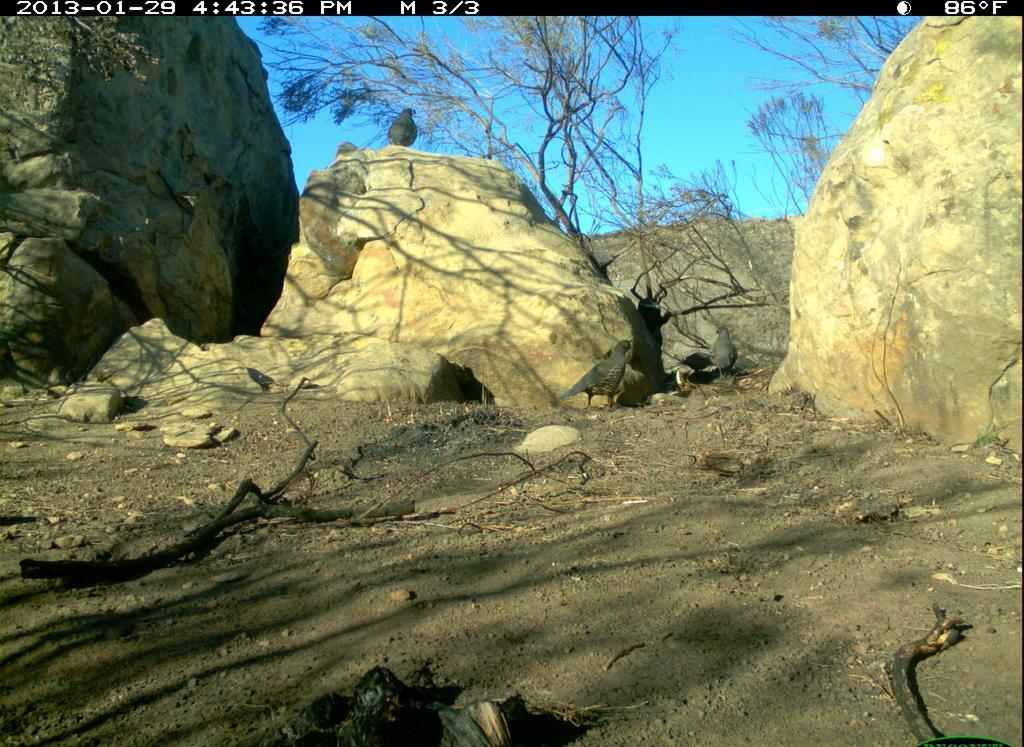bird: (565, 335, 646, 422), (376, 93, 441, 154), (710, 314, 739, 385), (675, 338, 712, 380)
